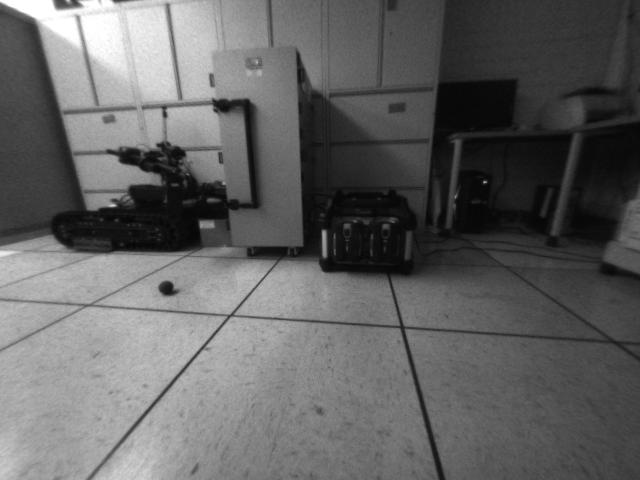dogtoy: (155, 275, 181, 300)
